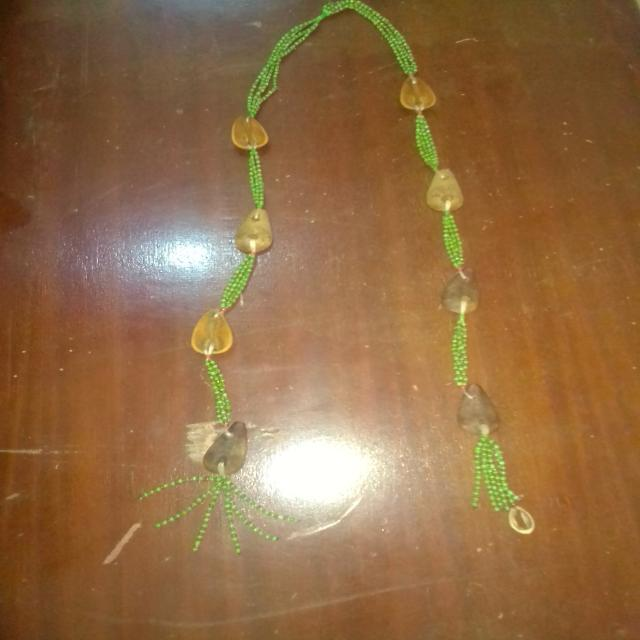facedown: (456, 376, 507, 449), (204, 412, 252, 482), (418, 166, 469, 214), (229, 206, 276, 256), (437, 263, 482, 315)
faceup: (188, 299, 238, 360), (395, 69, 443, 115), (226, 110, 273, 153)
